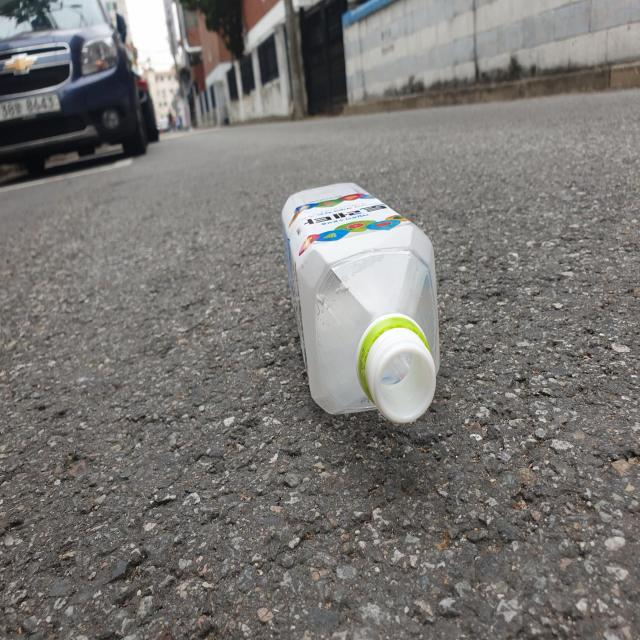plastic: (282, 183, 440, 423)
